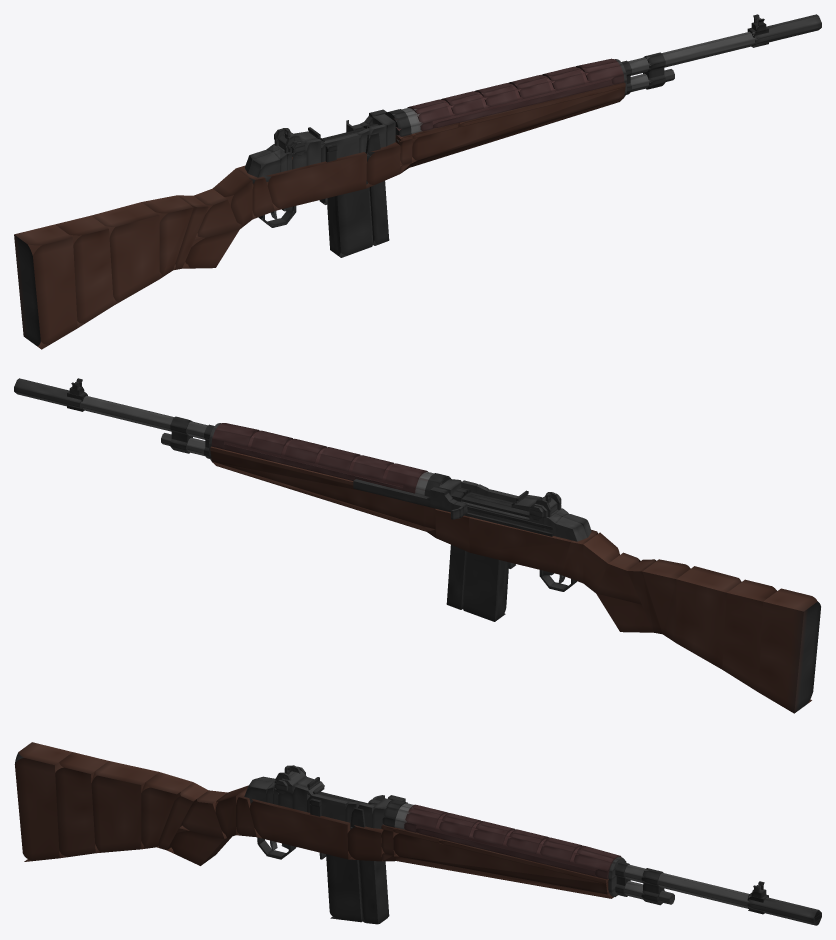
The picture shows the model from 3 angles, top to bottom: view 1: azimuth 30°, elevation 25°; view 2: azimuth 150°, elevation 25°; view 3: azimuth 330°, elevation 25°; orthographic projection.
Visible parts, largest first — view 1: gunModel11, gunModel9, gunModel10, gunModel12, gunModel0, ammoModel1, gunModel8, gunModel5, gunModel4, gunModel6, gunModel1, gunModel37 (+10 smaller); view 2: gunModel11, gunModel9, gunModel10, gunModel0, gunModel12, ammoModel1, gunModel8, gunModel5, gunModel4, gunModel6, gunModel1, gunModel95 (+9 smaller); view 3: gunModel11, gunModel9, gunModel10, gunModel12, gunModel0, gunModel8, ammoModel1, ammoModel2, gunModel6, gunModel5, gunModel7, gunModel37 (+16 smaller).
Boxes of the visible parts, <box> form: gunModel11: <box>14,224,77,349</box>; gunModel9: <box>91,202,159,305</box>; gunModel10: <box>55,215,113,327</box>; gunModel12: <box>412,87,625,162</box>; gunModel0: <box>266,152,366,210</box>; ammoModel1: <box>327,180,372,257</box>; gunModel8: <box>142,195,193,278</box>; gunModel5: <box>192,188,239,240</box>; gunModel4: <box>213,168,252,228</box>; gunModel6: <box>175,229,239,268</box>; gunModel1: <box>366,142,400,188</box>; gunModel37: <box>433,80,612,127</box>; gunModel11: <box>758,588,820,713</box>; gunModel9: <box>676,566,741,669</box>; gunModel10: <box>722,579,776,691</box>; gunModel0: <box>469,517,572,574</box>; gunModel12: <box>210,451,423,526</box>; ammoModel1: <box>463,552,508,621</box>; gunModel8: <box>642,559,690,642</box>; gunModel5: <box>596,552,641,604</box>; gunModel4: <box>583,532,619,592</box>; gunModel6: <box>596,593,653,632</box>; gunModel1: <box>435,509,469,552</box>; gunModel95: <box>81,395,207,433</box>; gunModel11: <box>14,742,72,861</box>; gunModel9: <box>91,761,158,853</box>; gunModel10: <box>55,752,108,858</box>; gunModel12: <box>393,833,608,894</box>; gunModel0: <box>249,799,351,859</box>; gunModel8: <box>141,772,193,849</box>; ammoModel1: <box>326,854,362,922</box>; ammoModel2: <box>359,860,389,924</box>; gunModel6: <box>167,827,231,865</box>; gunModel5: <box>179,790,227,839</box>; gunModel7: <box>157,782,208,850</box>; gunModel37: <box>416,828,595,876</box>.
Bounding box in the file's own units: 33.05 × 6 × 2.
